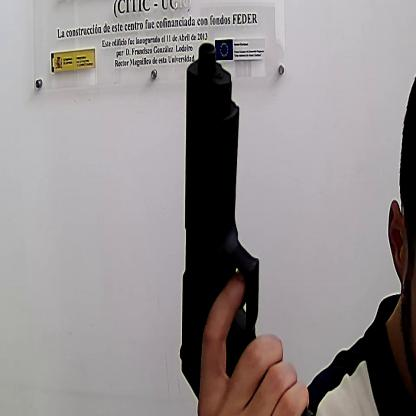gun: (177, 41, 314, 415)
